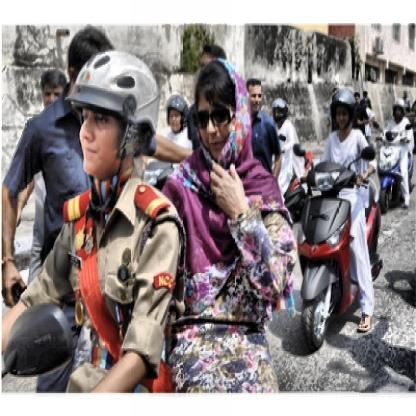not_wear: (201, 56, 246, 165), (245, 79, 262, 117)
wear: (75, 48, 161, 179), (332, 86, 354, 133), (162, 94, 186, 136)
